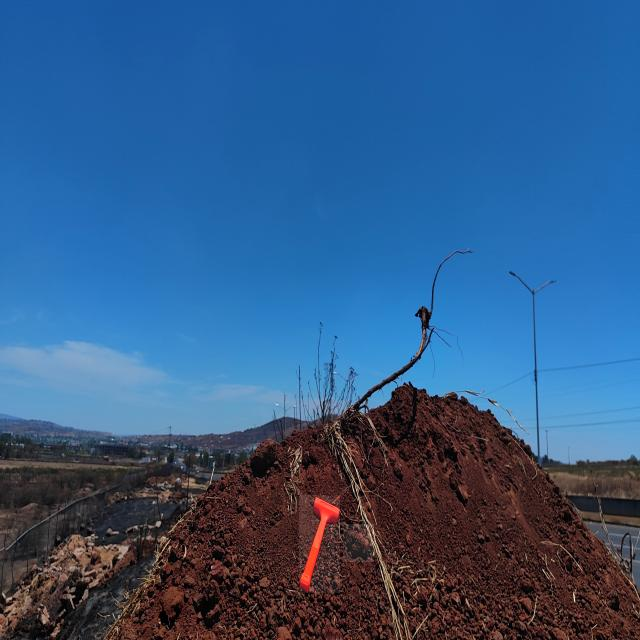Orange_hammer: (299, 495, 340, 593)
rock: (246, 431, 278, 479), (343, 524, 374, 562), (161, 580, 186, 627), (157, 584, 187, 623)
